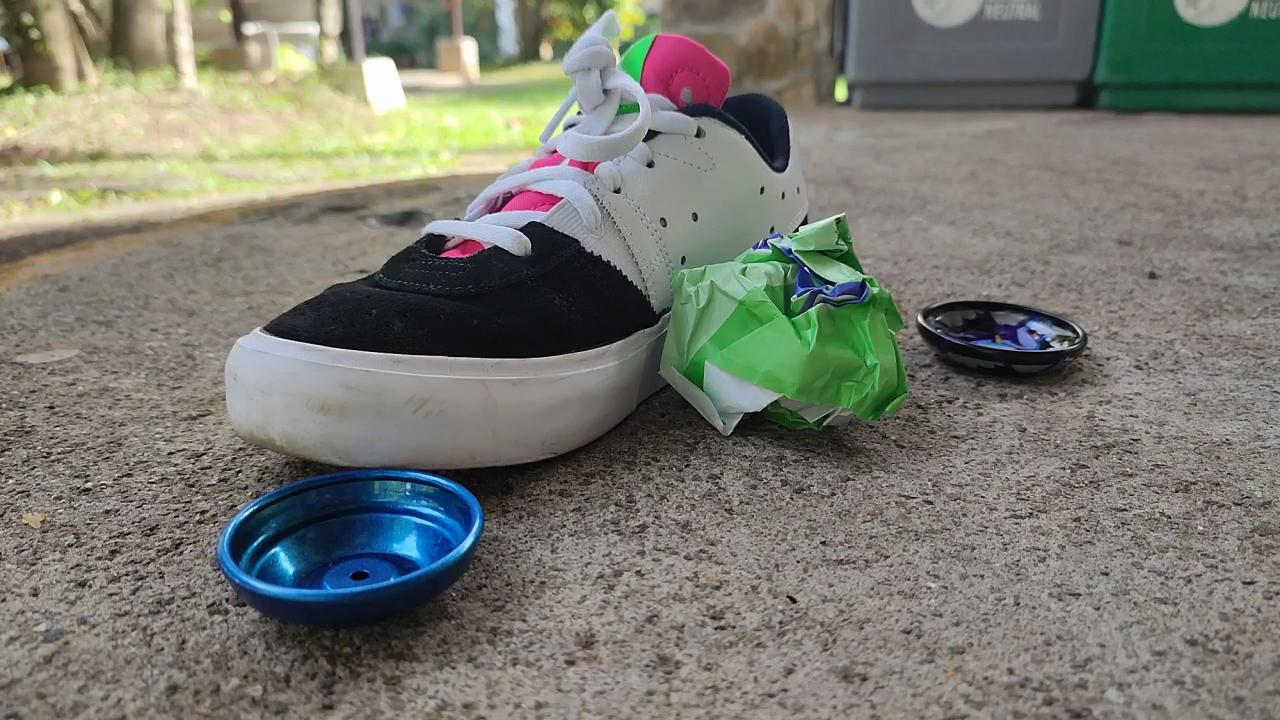Paper: (638, 195, 920, 454)
